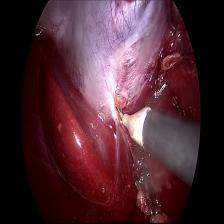Hook: (113, 98, 154, 160)
